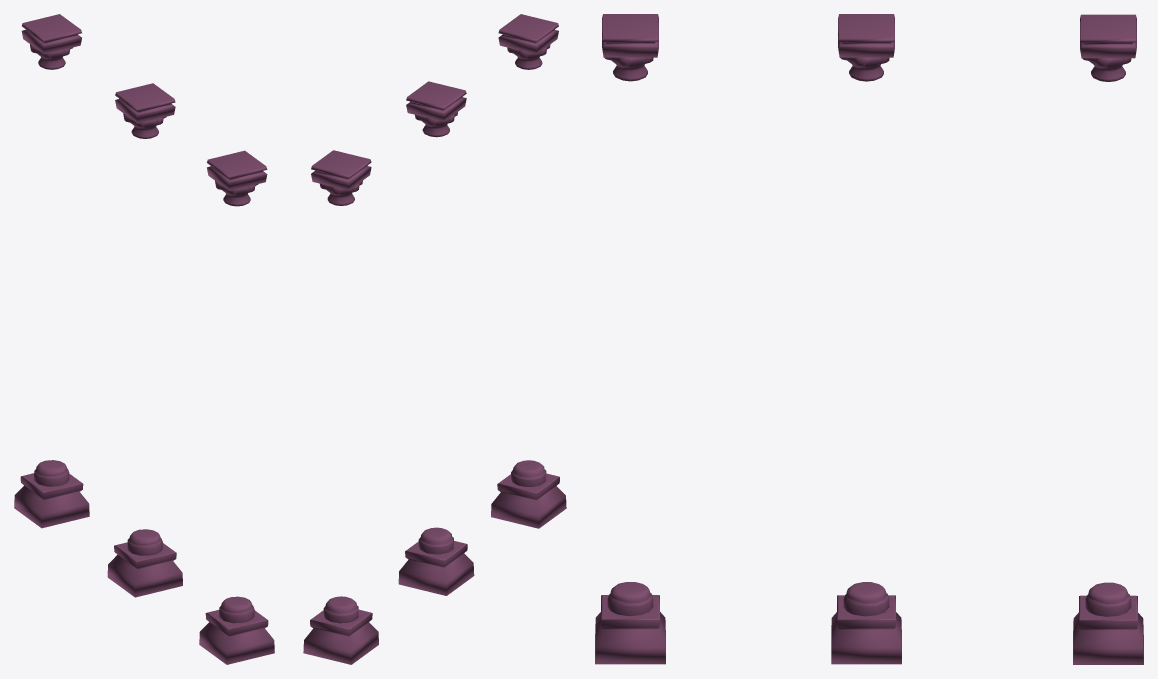
Rendered from Wall_Arc_05E_Lod0.fbx.
3 views of the same model, side by side, from view 1: azimuth 30°, elevation 25°; view 2: azimuth 150°, elevation 25°; view 3: azimuth 270°, elevation 25° (orthographic). The views are drawn at different scales.
Parts seen in each view (by area): view 1: Wall_Arc_05E_Lod0; view 2: Wall_Arc_05E_Lod0; view 3: Wall_Arc_05E_Lod0.
Part boxes in pixels (x1,y1,x2,y2): Wall_Arc_05E_Lod0: (14,14,274,664); Wall_Arc_05E_Lod0: (303,14,566,664); Wall_Arc_05E_Lod0: (595,14,1143,664).
Bounding box in the file's own units: 62.33 × 589 × 470.
